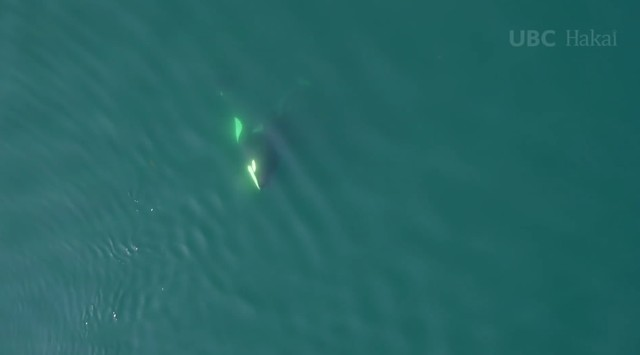whale: (201, 70, 289, 198)
